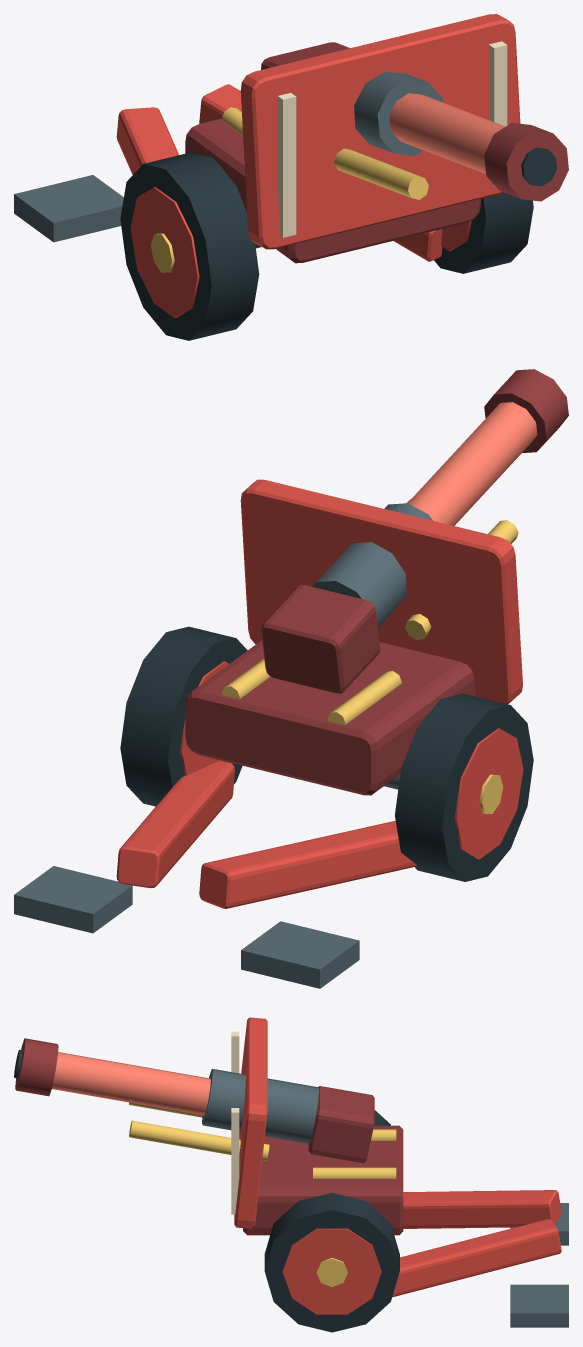
File: artillery.glb
3 renders of one model, top to bottom at view 1: azimuth 30°, elevation 25°; view 2: azimuth 150°, elevation 25°; view 3: azimuth 270°, elevation 25°, orthographic. The views are drawn at different scales.
Visible parts, largest first — view 1: carriage-team, carriage-rubber, carriage-dark, gun-light, carriage-metal, gun-dark, carriage-cream, gun-metal, gun-gold, carriage-gold, gun-rubber; view 2: carriage-team, carriage-rubber, carriage-dark, gun-dark, carriage-metal, gun-light, gun-metal, carriage-gold, gun-gold; view 3: carriage-team, carriage-rubber, carriage-dark, gun-dark, gun-light, gun-metal, carriage-metal, gun-gold, carriage-gold, carriage-cream.
Part boxes in pixels (<box>): carriage-team: <box>116,14,520,318</box>; carriage-rubber: <box>120,152,533,340</box>; carriage-dark: <box>185,118,480,263</box>; gun-light: <box>389,93,505,173</box>; carriage-metal: <box>14,175,261,248</box>; gun-dark: <box>261,42,568,201</box>; carriage-cream: <box>277,41,507,237</box>; gun-metal: <box>354,71,443,155</box>; gun-gold: <box>334,148,428,199</box>; carriage-gold: <box>151,107,242,272</box>; gun-rubber: <box>521,147,556,186</box>; carriage-team: <box>116,479,523,908</box>; carriage-rubber: <box>120,626,533,881</box>; carriage-dark: <box>185,640,475,795</box>; gun-dark: <box>261,369,568,693</box>; carriage-metal: <box>14,774,400,988</box>; gun-light: <box>407,402,537,525</box>; gun-metal: <box>313,503,432,627</box>; carriage-gold: <box>221,658,503,813</box>; gun-gold: <box>405,499,518,640</box>; carriage-team: <box>234,1017,561,1314</box>; carriage-rubber: <box>264,1110,399,1332</box>; carriage-dark: <box>243,1125,403,1235</box>; gun-dark: <box>15,1038,374,1163</box>; gun-light: <box>52,1052,210,1115</box>; gun-metal: <box>202,1068,319,1143</box>; carriage-metal: <box>510,1203,568,1327</box>; gun-gold: <box>129,1102,269,1161</box>; carriage-gold: <box>313,1129,396,1286</box>; carriage-cream: <box>231,1031,239,1214</box>.
Bounding box in the file's own units: 1.25 × 1.15 × 2.46.
